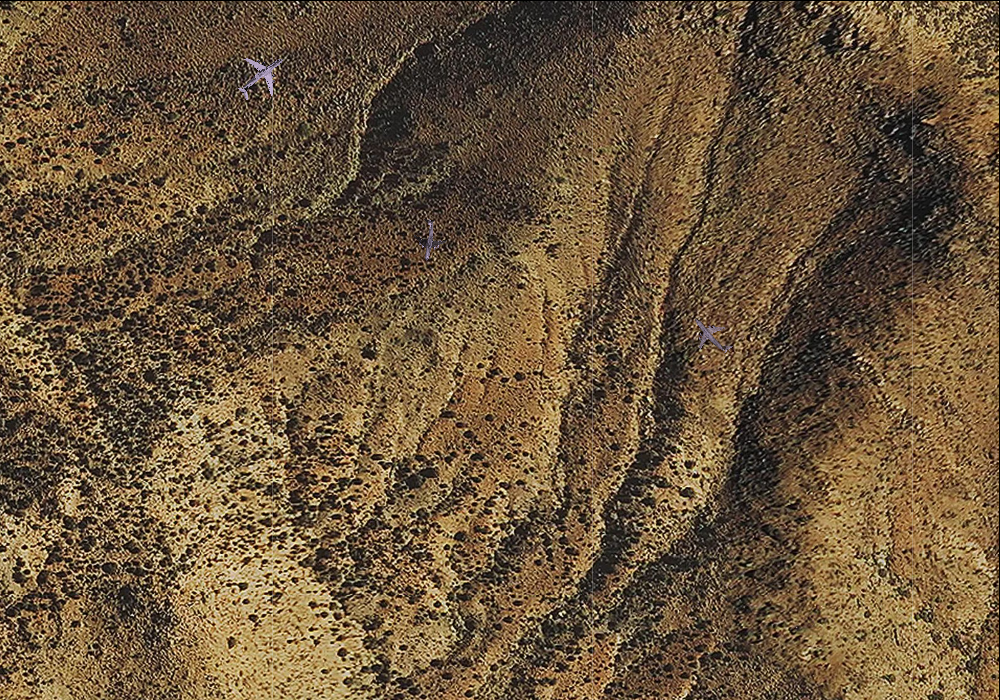plane: (224, 39, 298, 113), (682, 304, 742, 365), (405, 215, 451, 264)
